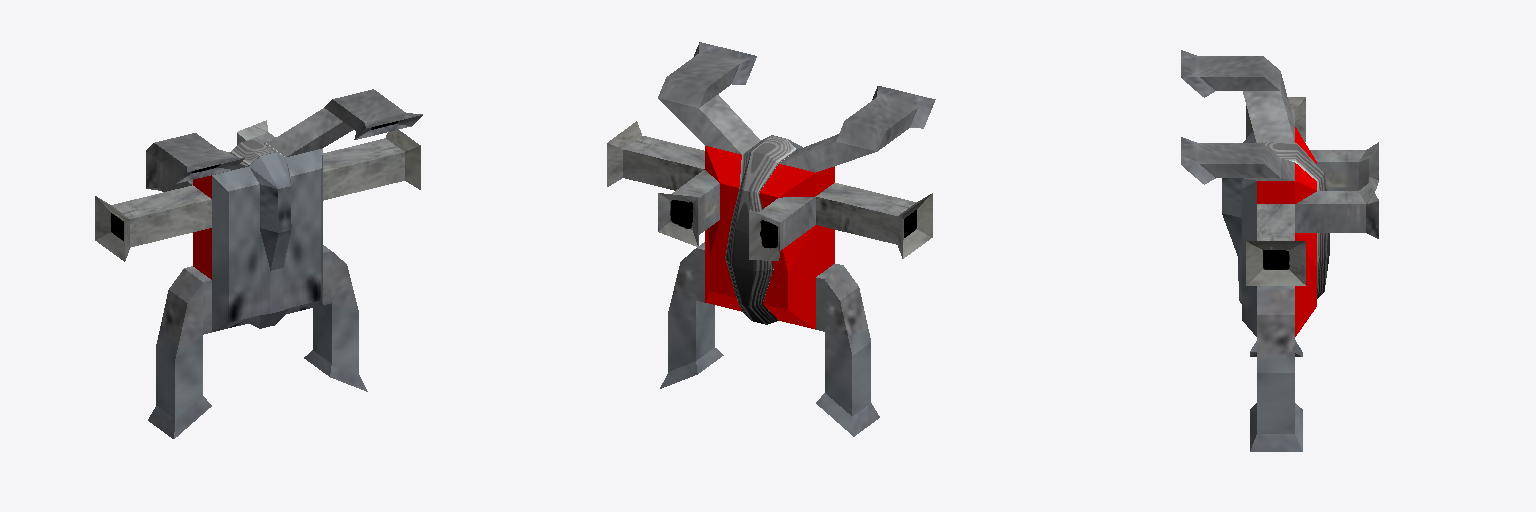
3 renders of one model, left to right at view 1: azimuth 30°, elevation 25°; view 2: azimuth 150°, elevation 25°; view 3: azimuth 270°, elevation 25°, orthographic.
Parts seen in each view (by area): view 1: polySurface1; view 2: polySurface1; view 3: polySurface1.
Part boxes in pixels (bbox=[...]): polySurface1: bbox=[95, 89, 422, 438]; polySurface1: bbox=[607, 42, 935, 436]; polySurface1: bbox=[1181, 50, 1378, 451].
Size of the model in its own units: 9.11 by 8.77 by 5.3.
1 materials, 1 textured.